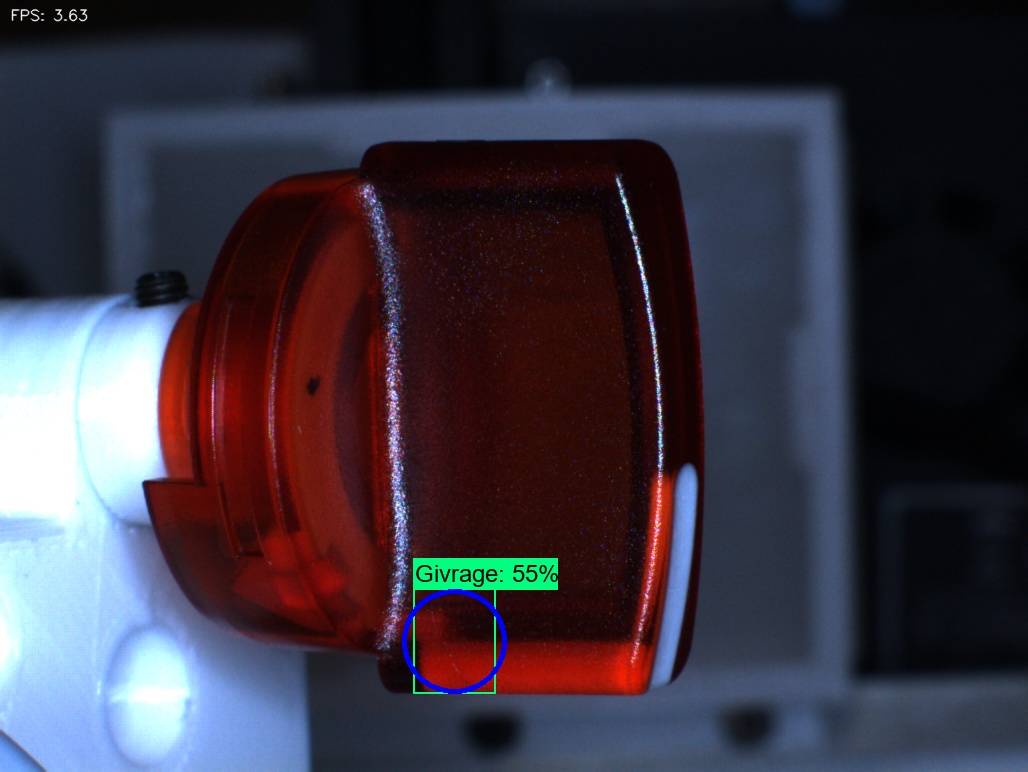PointNoir: (268, 328, 363, 437)
